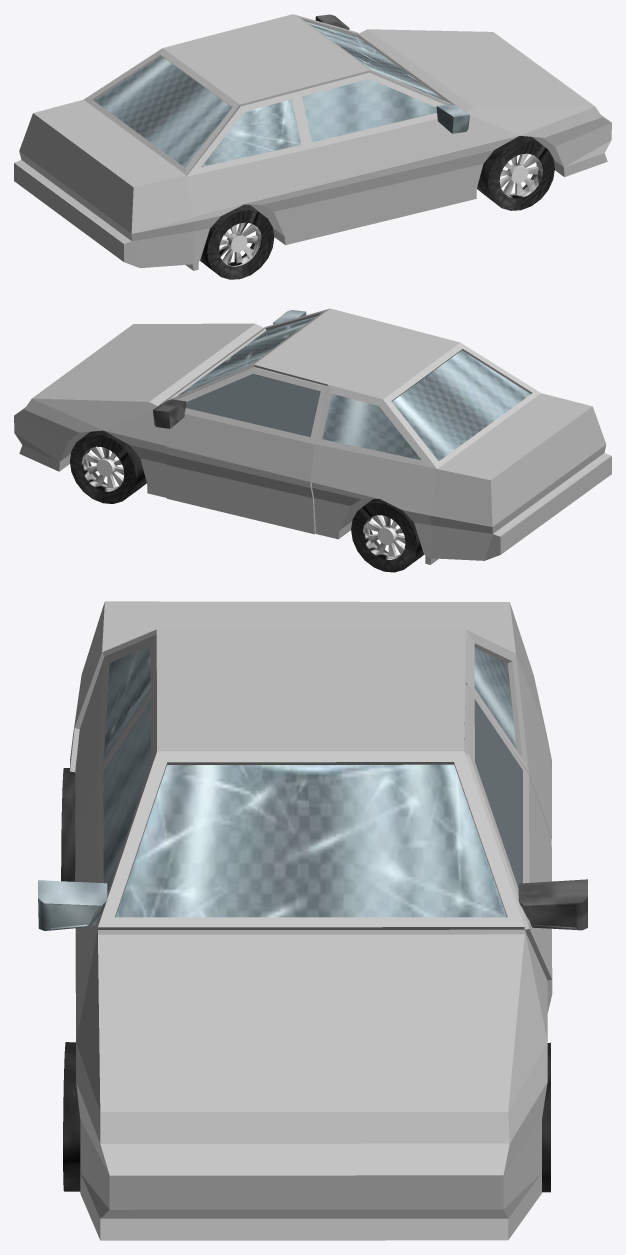
Rendered from Car_InTEGRADO prueba90.fbx.
3 views of the same model, one above another, from view 1: azimuth 30°, elevation 25°; view 2: azimuth 150°, elevation 25°; view 3: azimuth 270°, elevation 25° (orthographic). The views are drawn at different scales.
Parts seen in each view (by area): view 1: Body, PuertaDrch, Ventanas, FR, BR, Retrovbisor; view 2: Body, PuertaIzq, Ventanas, FL, BL, Retrovbisor; view 3: Body, Ventanas, PuertaIzq, PuertaDrch, Retrovbisor, FR, BR, FL.
Boxes of the visible parts, box(x1,y1,x2,y2) form: Body: box(14, 14, 611, 270); PuertaDrch: box(295, 72, 459, 239); Ventanas: box(94, 22, 445, 167); FR: box(477, 136, 554, 210); BR: box(200, 204, 274, 279); Retrovbisor: box(315, 14, 469, 133); Body: box(14, 308, 611, 564); PuertaIzq: box(162, 367, 327, 534); Ventanas: box(178, 316, 530, 460); FL: box(70, 430, 146, 503); BL: box(351, 499, 423, 572); Retrovbisor: box(153, 310, 306, 428); Body: box(70, 601, 551, 1240); Ventanas: box(103, 645, 516, 917); PuertaIzq: box(464, 684, 552, 1012); PuertaDrch: box(75, 686, 156, 992); Retrovbisor: box(38, 879, 587, 930); FR: box(63, 1042, 80, 1191); BR: box(61, 768, 75, 881); FL: box(542, 1042, 550, 1192).
Bounding box in the file's own units: 685 × 204 × 331.
